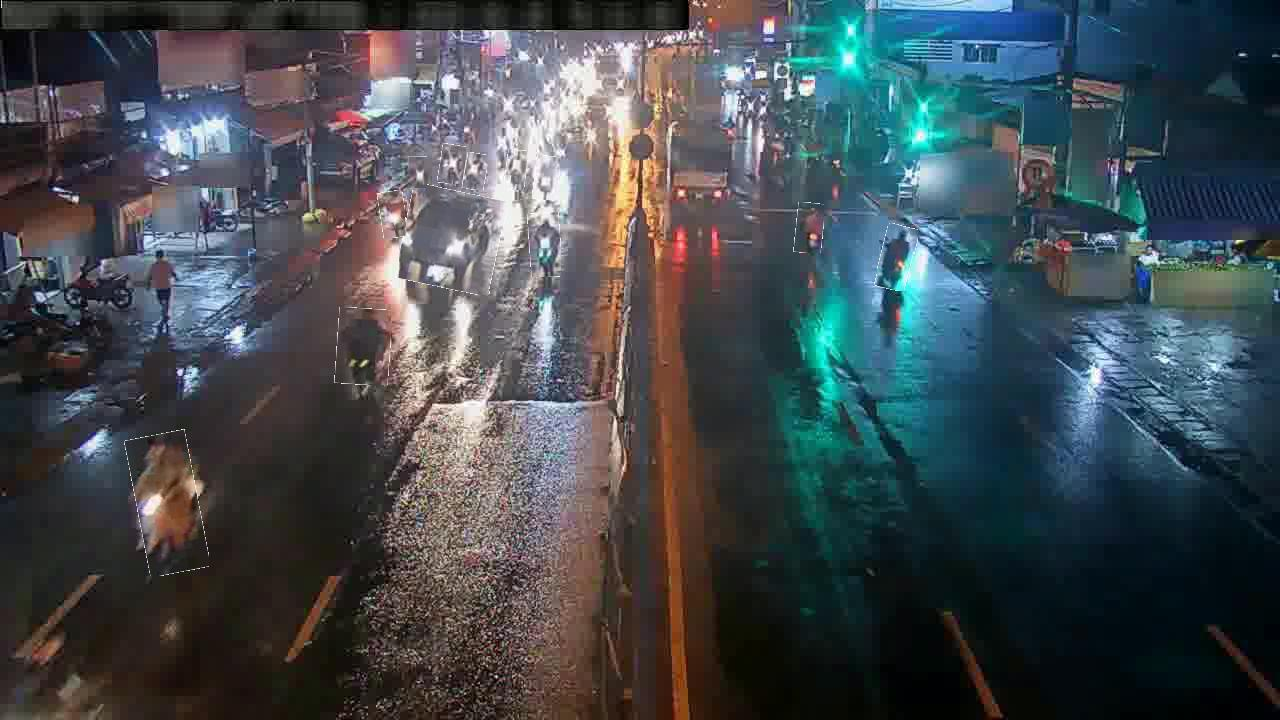8: (660, 116, 734, 206)
container: (400, 187, 504, 292)
motorbike: (131, 432, 204, 575), (336, 308, 391, 386), (878, 225, 916, 291), (528, 212, 561, 278), (795, 203, 824, 254), (379, 191, 407, 239), (534, 156, 560, 201), (439, 144, 466, 185), (505, 150, 527, 191), (464, 153, 487, 191), (408, 156, 428, 189)
